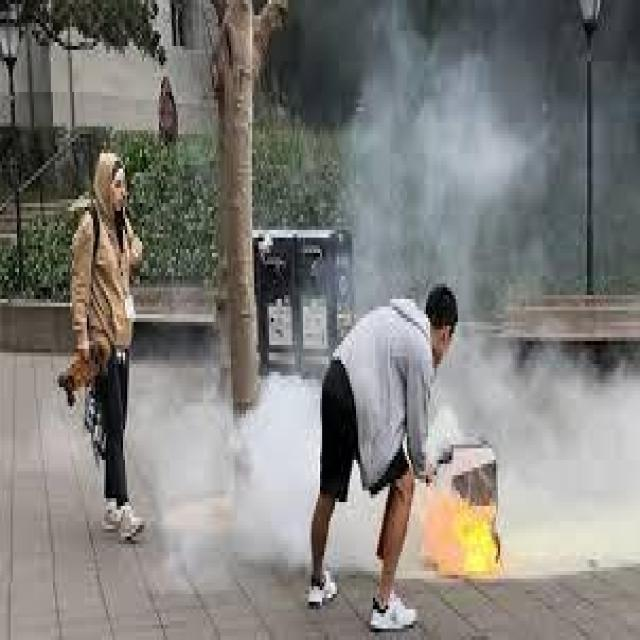Fire: (426, 486, 504, 590)
Smoke: (328, 0, 590, 276), (142, 372, 322, 574), (504, 322, 640, 564)
